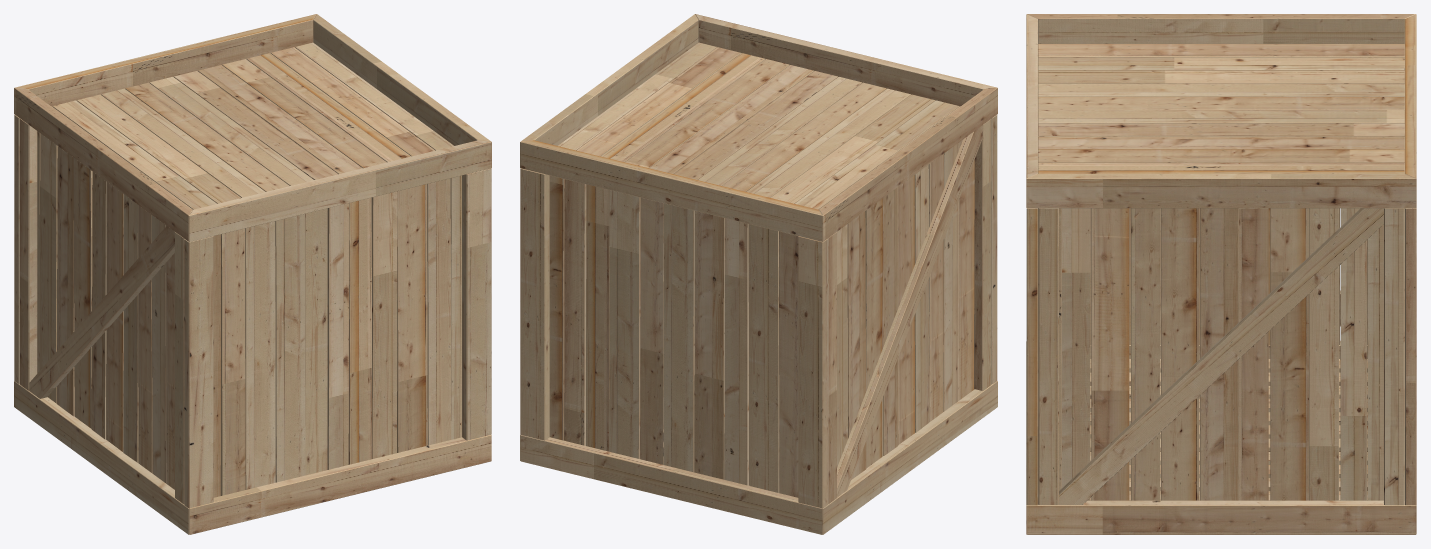
Rendered from Box wooden N220819.obj.
3 views of the same model, side by side, from view 1: azimuth 30°, elevation 25°; view 2: azimuth 150°, elevation 25°; view 3: azimuth 270°, elevation 25° (orthographic). The views are drawn at different scales.
Visible parts, largest first — view 1: Floor_Object016, Floor_Object013, Floor_Object017, Rectangle009, Object007, Object009, Object006, Rectangle010, Object010, Object008; view 2: Floor_Object018, Floor_Object013, Floor_Object017, Rectangle009, Object007, Rectangle010, Object006, Object009, Object008, Object010; view 3: Floor_Object014, Floor_Object013, Object007, Rectangle009, Rectangle008, Object008, Rectangle010, Object009, Floor_Object015, Floor_Object017.
Boxes of the visible parts, <box> form: Floor_Object016: <box>213,175,461,497</box>; Floor_Object013: <box>51,42,453,209</box>; Floor_Object017: <box>37,131,174,489</box>; Rectangle009: <box>14,114,491,508</box>; Object007: <box>14,14,491,241</box>; Object009: <box>189,140,491,241</box>; Object006: <box>189,435,491,534</box>; Rectangle010: <box>14,14,316,106</box>; Object010: <box>14,381,189,534</box>; Object008: <box>29,226,174,398</box>; Floor_Object018: <box>549,175,798,497</box>; Floor_Object013: <box>558,42,960,209</box>; Floor_Object017: <box>837,140,974,479</box>; Rectangle009: <box>520,115,997,508</box>; Object007: <box>520,14,997,241</box>; Rectangle010: <box>520,140,822,241</box>; Object006: <box>520,435,822,534</box>; Object009: <box>696,14,996,106</box>; Object008: <box>837,125,982,497</box>; Object010: <box>822,381,997,534</box>; Floor_Object014: <box>1059,208,1404,500</box>; Floor_Object013: <box>1038,44,1404,173</box>; Object007: <box>1026,14,1416,208</box>; Rectangle009: <box>1026,208,1416,505</box>; Rectangle008: <box>1027,500,1416,534</box>; Object008: <box>1059,208,1383,504</box>; Rectangle010: <box>1405,14,1416,207</box>; Object009: <box>1026,14,1037,178</box>; Floor_Object015: <box>1090,355,1367,500</box>; Floor_Object017: <box>1090,208,1367,360</box>.
Size of the model in its own units: 850 by 856 by 849.
